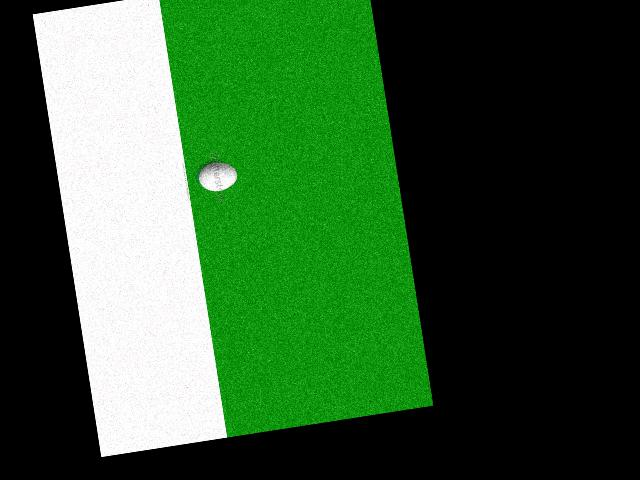egg: (196, 159, 238, 193)
